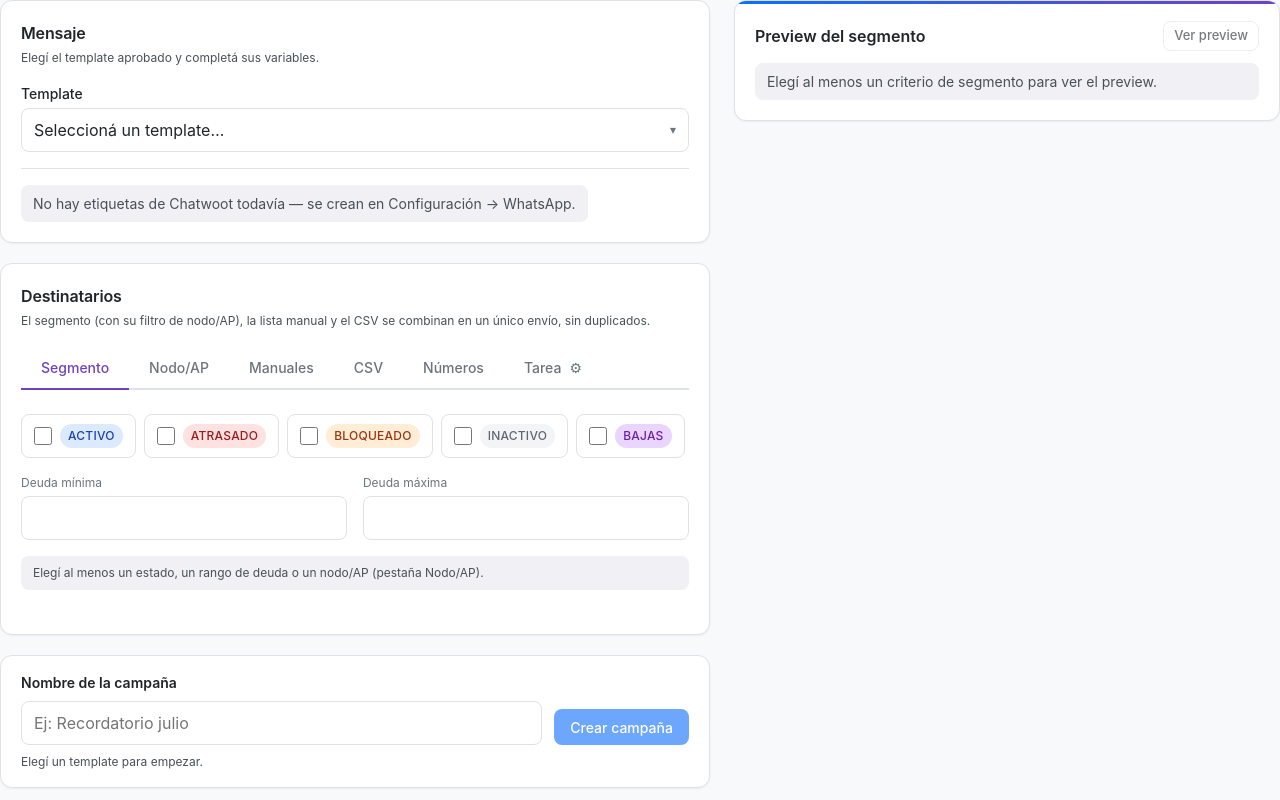
Test: CC-9: botón "Ver preview" abre el PreviewModal (messaging-bulk-v11 FE apply chunk 2) › abre el modal completo, que dispara SU PROPIA query de destinatarios paginados
The image size is (1280, 800).
Click the checkbox labelled "Atrasado".
click(166, 436)  # box [157,427,175,445]
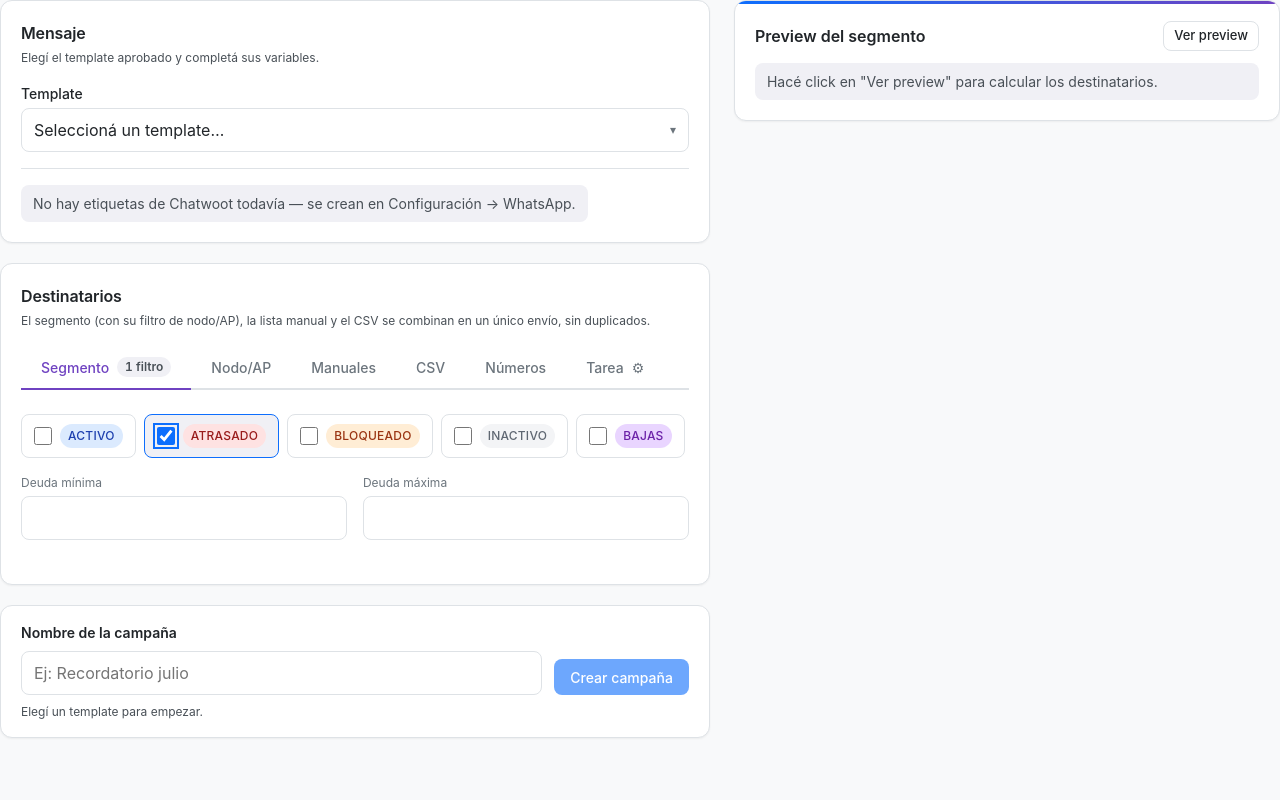
Click the button "Ver preview".
click(1211, 36)  # box [1163,21,1259,50]
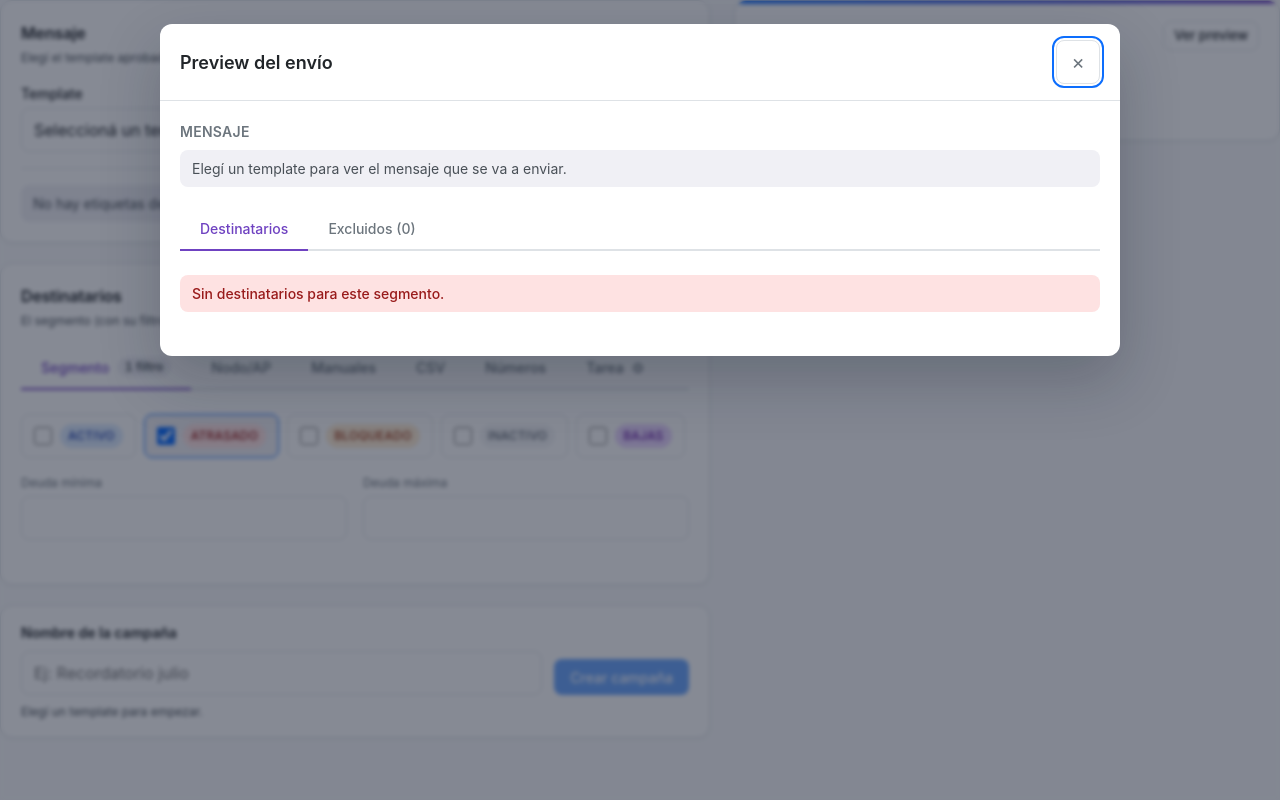
Expected: the dialog "Preview del envío" is shown
